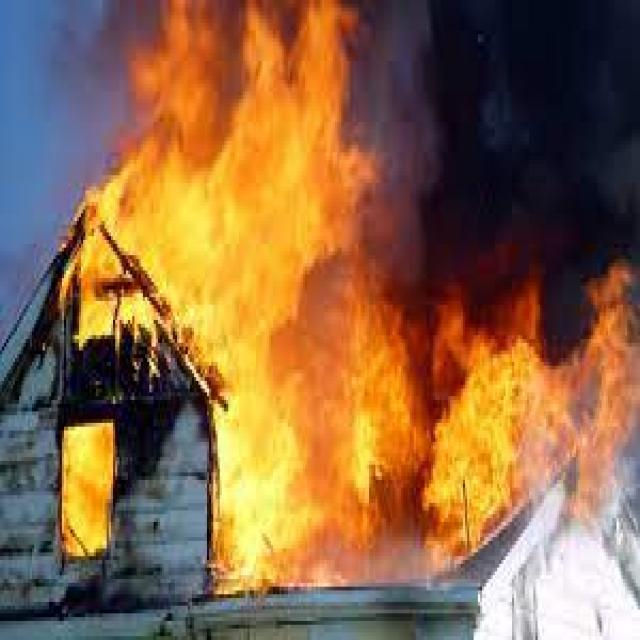Fire: (123, 0, 337, 365), (215, 326, 488, 568), (418, 274, 640, 457), (68, 419, 112, 565)
Smoke: (324, 0, 640, 339)
